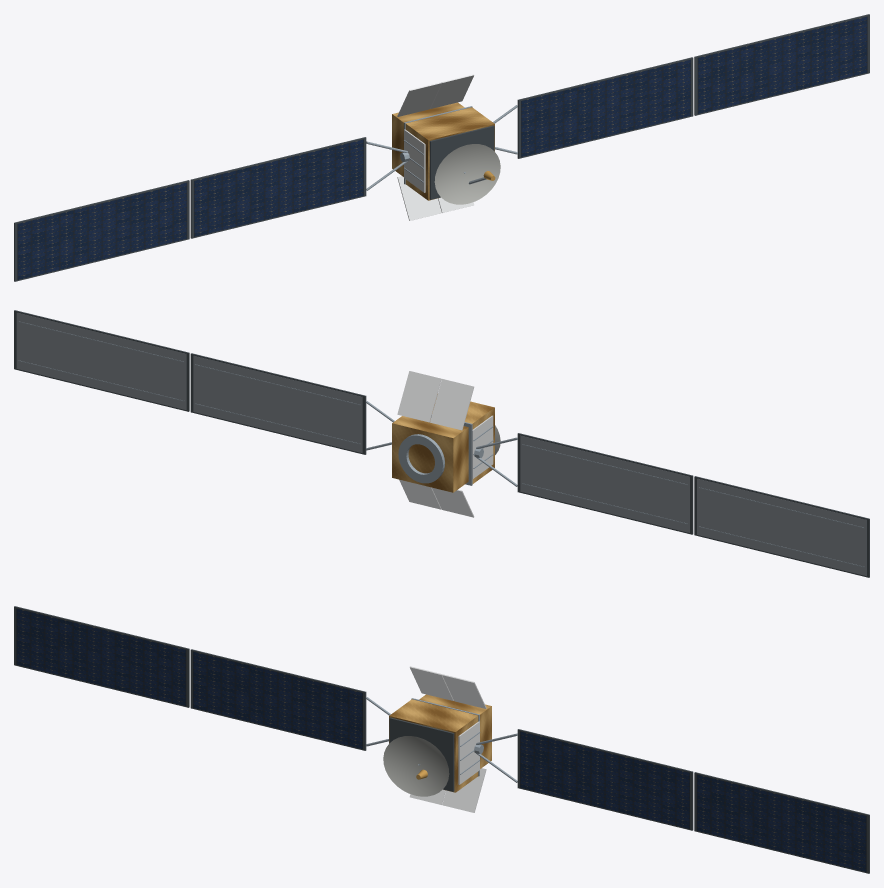
Rendered from as4000-astra.glb.
3 views of the same model, one above another, from view 1: azimuth 30°, elevation 25°; view 2: azimuth 150°, elevation 25°; view 3: azimuth 330°, elevation 25° (orthographic).
Visible parts, largest first — view 1: Solar cell panel (×4), Solar panel frame (×4), Deck-mounted reflector, Deployed radiator leaf (×3), Payload module, Earth-facing deck, Service module, Radiator face; view 2: Rear array substrate (×4), Solar panel frame (×4), Deployed radiator leaf (×4), Service module, Launch adapter ring, Radiator face, Payload module; view 3: Solar cell panel (×4), Solar panel frame (×4), Deck-mounted reflector, Deployed radiator leaf (×3), Payload module, Earth-facing deck, Service module, Radiator face.
Part boxes in pixels (x1,y1,x2,y2): Solar cell panel (×4): (17, 16, 867, 279); Solar panel frame (×4): (14, 14, 869, 281); Deck-mounted reflector: (434, 144, 500, 204); Deployed radiator leaf (×3): (397, 74, 474, 220); Payload module: (405, 107, 494, 200); Earth-facing deck: (429, 125, 494, 199); Service module: (392, 102, 464, 176); Radiator face: (404, 129, 425, 192); Rear array substrate (×4): (16, 312, 866, 575); Solar panel frame (×4): (14, 310, 869, 577); Deployed radiator leaf (×4): (397, 371, 474, 517); Service module: (392, 416, 468, 492); Launch adapter ring: (398, 434, 444, 483); Radiator face: (472, 415, 493, 478); Payload module: (432, 394, 494, 483); Solar cell panel (×4): (16, 608, 866, 871); Solar panel frame (×4): (14, 606, 869, 873); Deck-mounted reflector: (383, 736, 449, 796); Deployed radiator leaf (×3): (409, 666, 486, 812); Payload module: (389, 699, 478, 792); Earth-facing deck: (389, 717, 454, 791); Service module: (419, 694, 491, 768); Radiator face: (458, 721, 479, 784).
Bounding box in the file's own units: 19.26 × 2.82 × 2.29.
8 materials, 2 textured.
